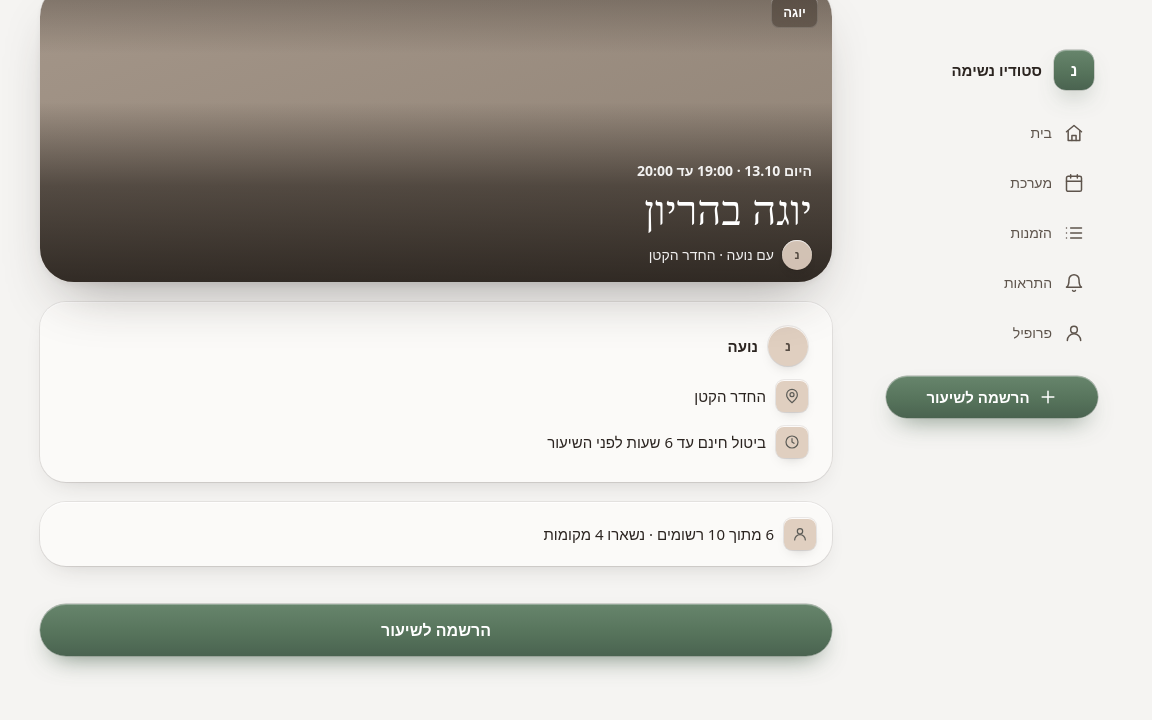
Test case: a class and cancelling › saves the picture where the browser cannot share a file, and says so on the button
(page scrolled)
Click the button "הרשמה לשיעור" at (436, 630), box [40,604,832,656]
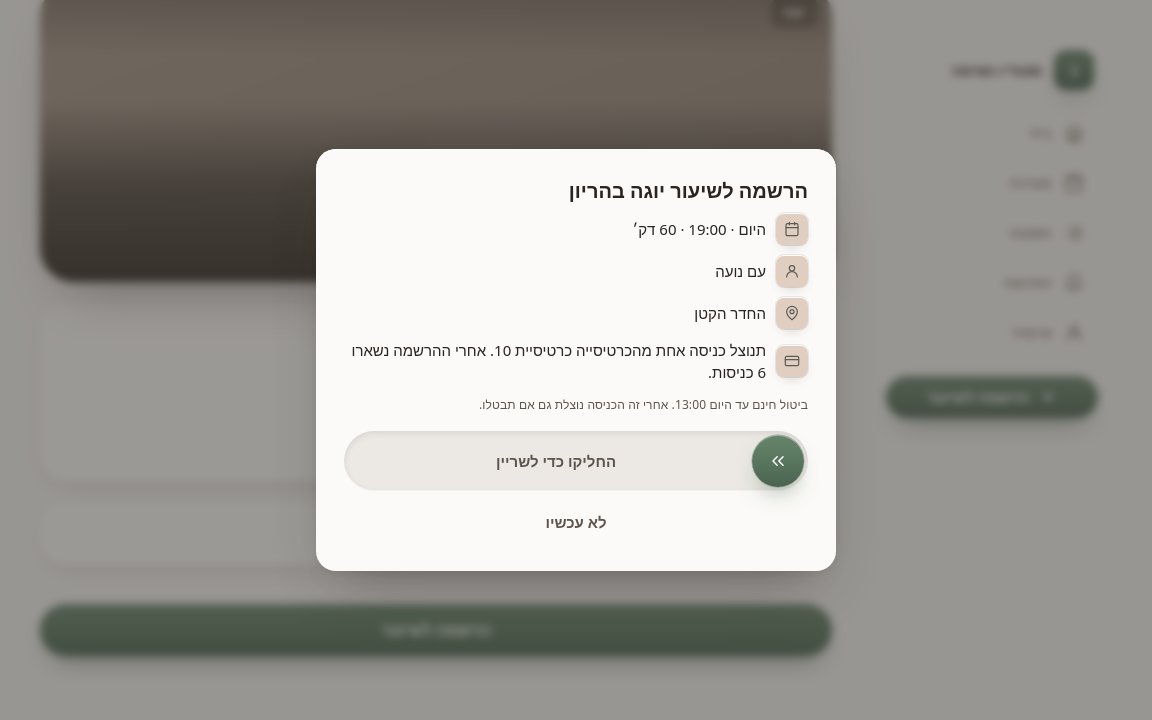
Click the button named "אישור ההרשמה" at (778, 461), box [752,435,804,487]
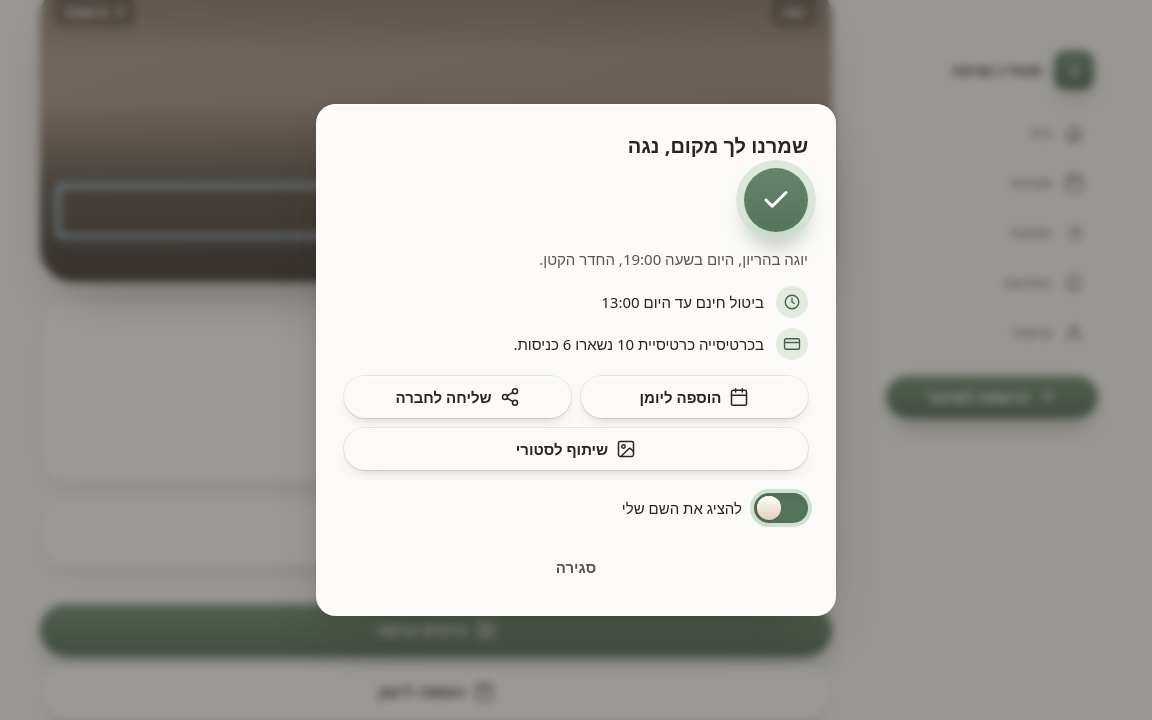
Expected: the button "שיתוף לסטורי" is enabled
Click the button "שיתוף לסטורי" at (576, 449), box [344,428,808,470]
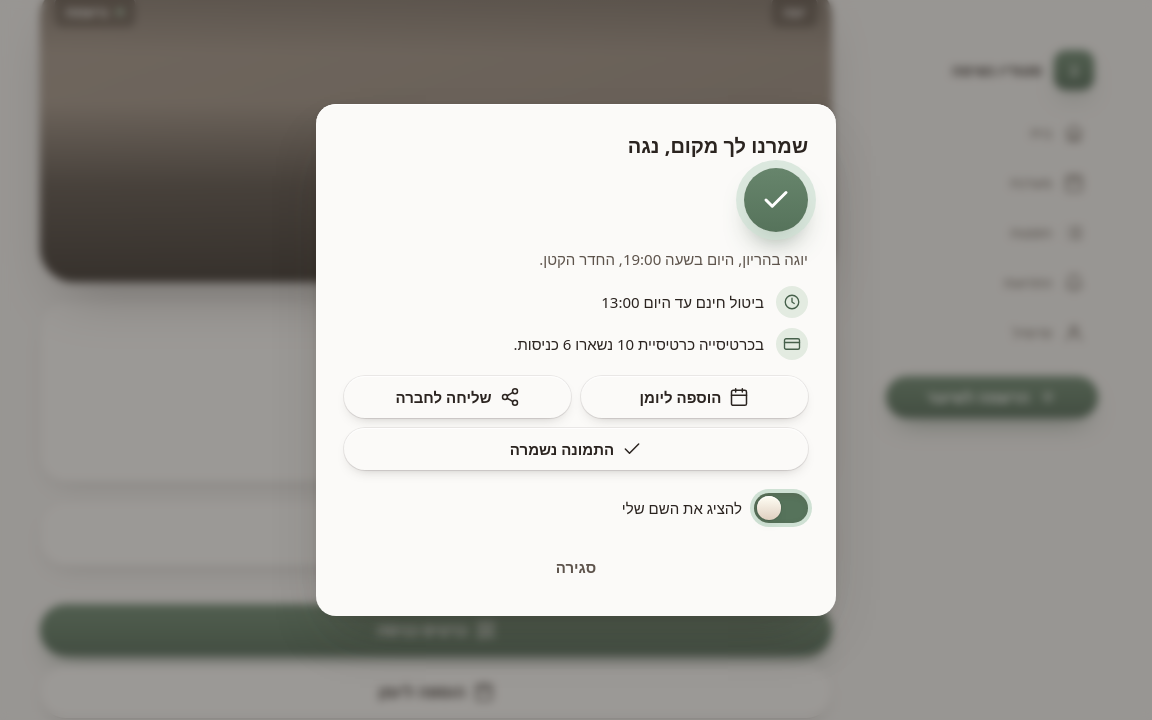
Expected: the button "התמונה נשמרה" is shown, [344,428,808,470]
